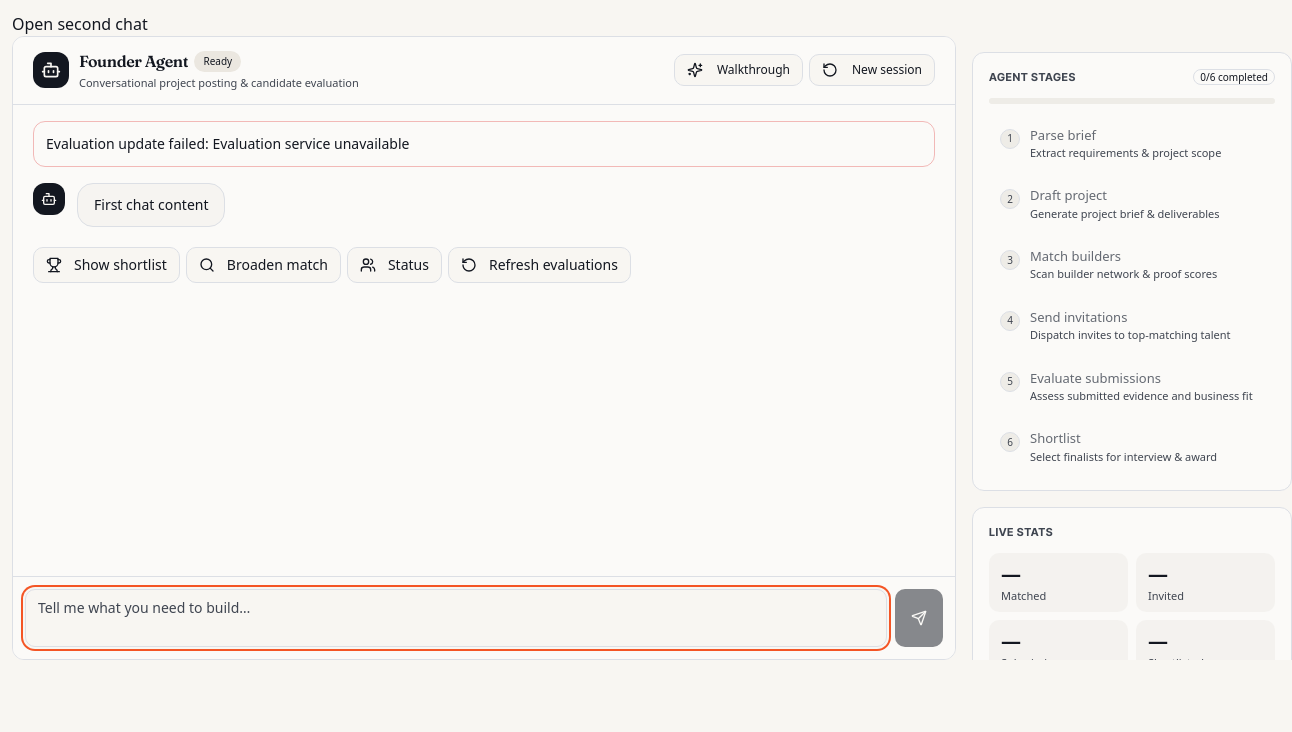
Founder agent chat recovery and request isolation › shows background evaluation failures with a retry action
The width and height of the screenshot is (1292, 732).
Expected: the text "Evaluation update failed: Evaluation service unavailable" is shown, top-left (33, 120), bottom-right (935, 166)
What coordinates should you click on to do the following:
click the button "Refresh evaluations"
I would click on:
 (539, 265)
Its box is top-left (448, 247), bottom-right (631, 283).
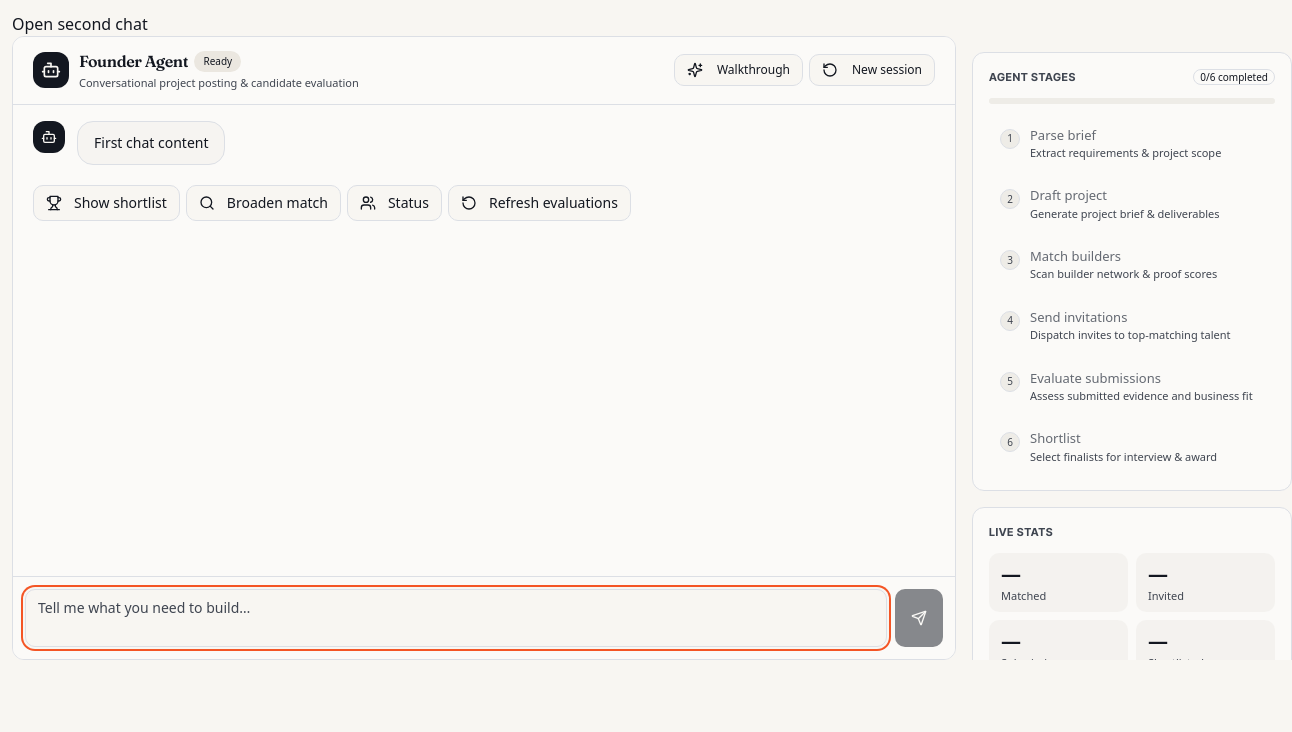
Result: the text "Evaluation update failed" is gone
